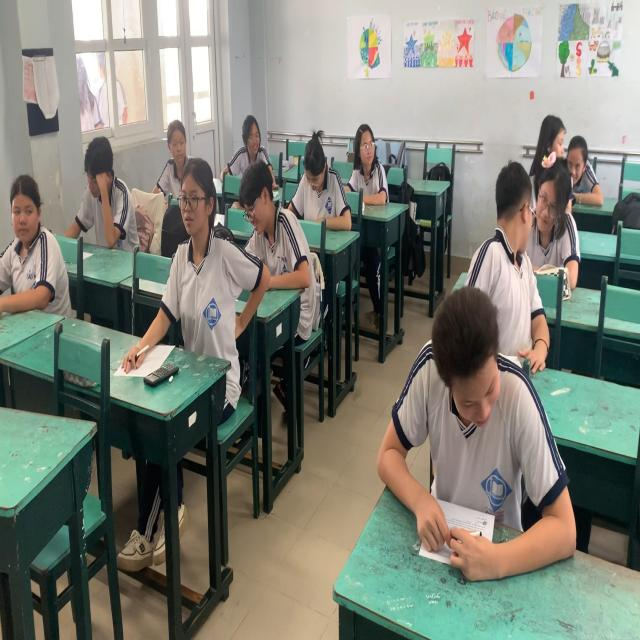cheating: (477, 171, 537, 367), (0, 157, 54, 312), (538, 112, 600, 198), (226, 106, 274, 164), (163, 113, 193, 167)
not_cheating: (399, 292, 533, 562), (179, 167, 237, 326), (234, 157, 303, 288), (75, 136, 126, 261), (296, 127, 345, 229), (347, 109, 391, 194)
